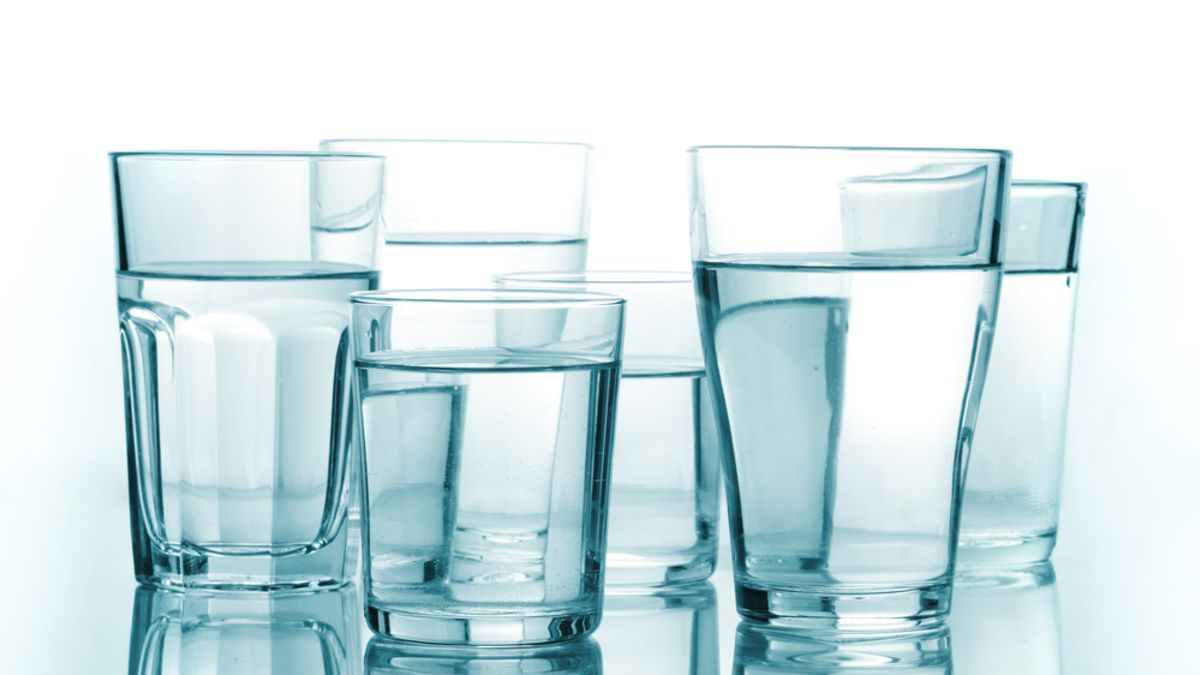glass of water: (685, 129, 1022, 649), (111, 103, 397, 633), (328, 267, 630, 668)
